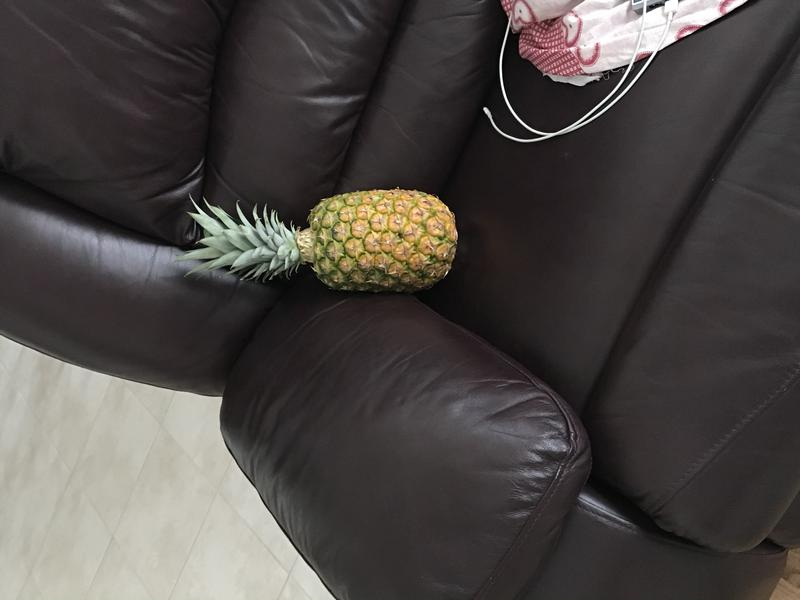pineapple: (174, 177, 462, 303)
